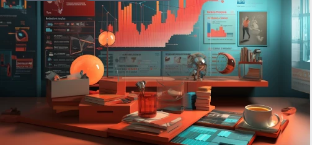

The dashboard page shown, as its layout file describes it:
{"tool":"tableau","page":{"name":"Dashboard 1","canvas":[1366,768],"ordinal":0},"visuals":[{"type":"title","box":[8,8,1350,41]},{"type":"worksheet","title":"Sheet 1","mark":"Bar","rows":["number_of_posts","Calculation_656399688457838592"],"cols":["post_date"],"box":[8,49,758,353.8]},{"type":"worksheet","title":"Sheet 5","mark":"Automatic","box":[766,49,372,353.8]},{"type":"filter","title":"Sheet 1","param":"[federated.1u2n35i1xwz2qw16idjyf1kn14rl].[none:post_date:qk]","box":[1138,49,220,69]},{"type":"filter","title":"Sheet 1","param":"[federated.1u2n35i1xwz2qw16idjyf1kn14rl].[none:post_subtype:nk]","box":[1138,118,220,184]},{"type":"legend","title":"Sheet 1","param":"[federated.1u2n35i1xwz2qw16idjyf1kn14rl].[:Measure Names]","box":[1138,302,220,66]},{"type":"worksheet","title":"Sheet 2","mark":"Automatic","rows":["post_subtype"],"cols":["number_of_posts"],"box":[8,402.8,459,357.2]},{"type":"worksheet","title":"Sheet 4","mark":"Automatic","rows":["post_subtype"],"cols":["number_of_comments"],"box":[467,402.8,444,357.2]},{"type":"worksheet","title":"Sheet 3","mark":"Automatic","rows":["post_subtype"],"cols":["number_of_likes"],"box":[911,402.8,447,357.2]}]}

Visuals, with their boxes on the page's 1366x768 design canvas (x1, y1, x2, y2). These are canvas units, not pixel positions in the 312x145 screenshot, which may show the page scaled, cropped or inside an application window:
title: box=[8, 8, 1358, 49]
"Sheet 1" worksheet (Bar marks): box=[8, 49, 766, 403]
"Sheet 5" worksheet: box=[766, 49, 1138, 403]
"Sheet 1" filter: box=[1138, 49, 1358, 118]
"Sheet 1" filter: box=[1138, 118, 1358, 302]
"Sheet 1" legend: box=[1138, 302, 1358, 368]
"Sheet 2" worksheet: box=[8, 403, 467, 760]
"Sheet 4" worksheet: box=[467, 403, 911, 760]
"Sheet 3" worksheet: box=[911, 403, 1358, 760]
